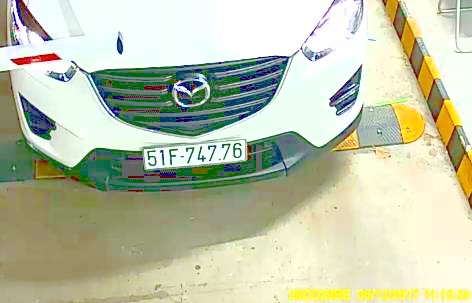plate: (140, 139, 250, 163)
